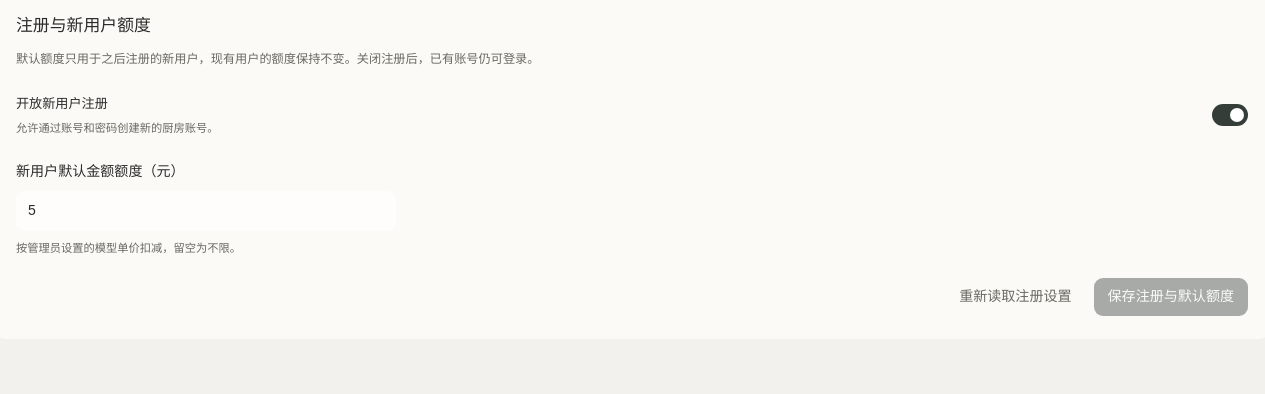
Registration and future account money quotas › saves the registration flag and exact future limits with the server revision
The image size is (1265, 394).
Check: the text "默认额度只用于之后注册的新用户，现有用户的额度保持不变。关闭注册后，已有账号仍可登录。" is shown, box [16,52,539,66]
Check: the button "保存注册与默认额度" is disabled, box [1094,278,1248,316]
Click the switch labelled "开放新用户注册" at (1230, 116), box [1212,104,1248,126]
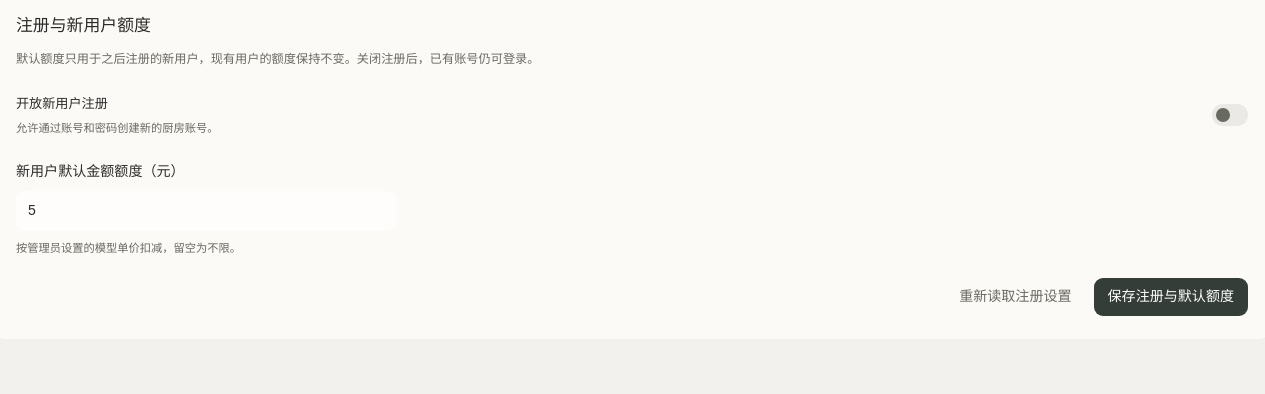
Replace the text in the number field labelled "新用户默认金额额度（元）" with "1.234567" at (206, 211), box [16,191,396,231]
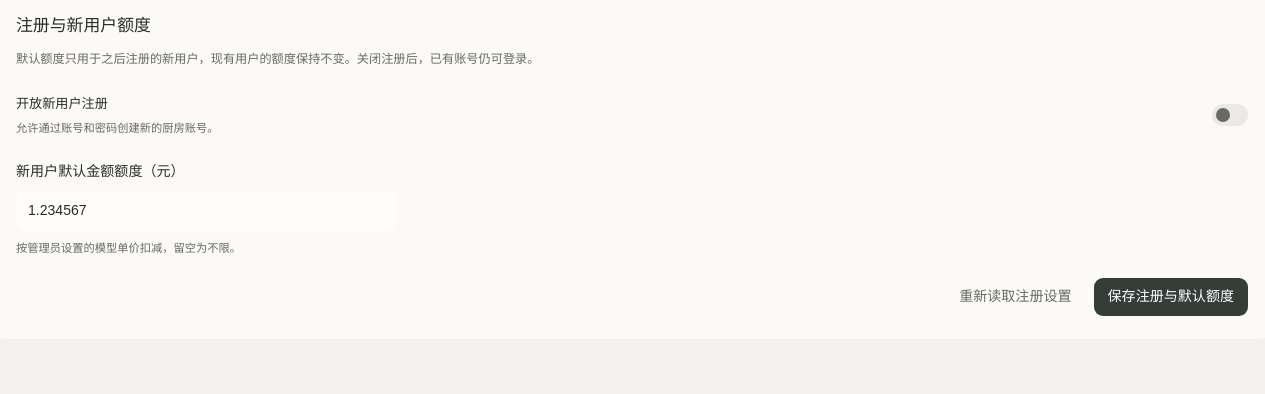
Click the button "保存注册与默认额度" at (1171, 297), box [1094,278,1248,316]
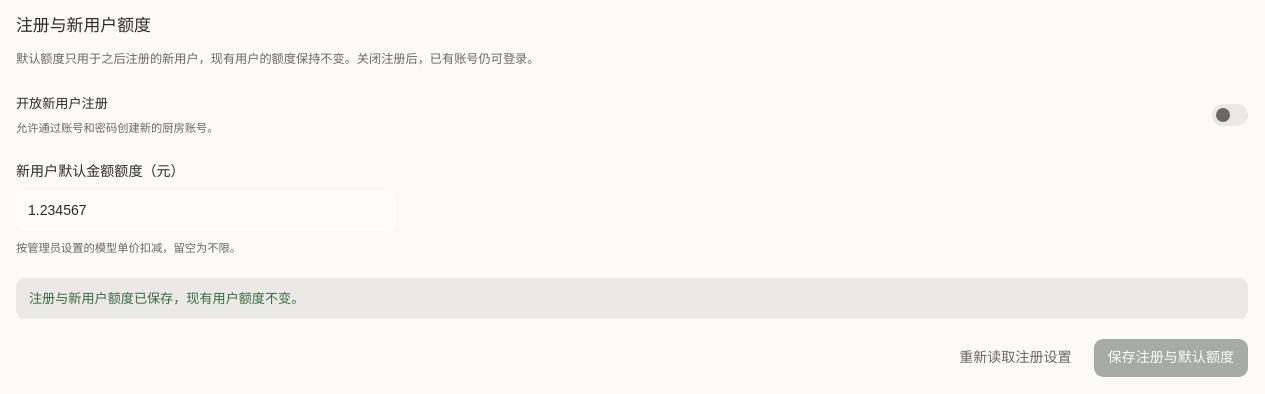
Check: the message shows "现有用户额度不变", box [29,291,304,306]
Check: the button "保存注册与默认额度" is disabled, box [1094,339,1248,377]
